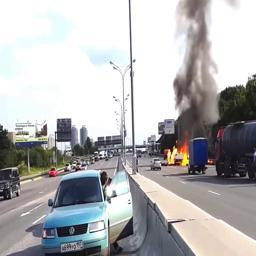fire: (167, 132, 189, 167)
